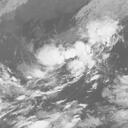cyclone: (36, 41, 93, 81)
